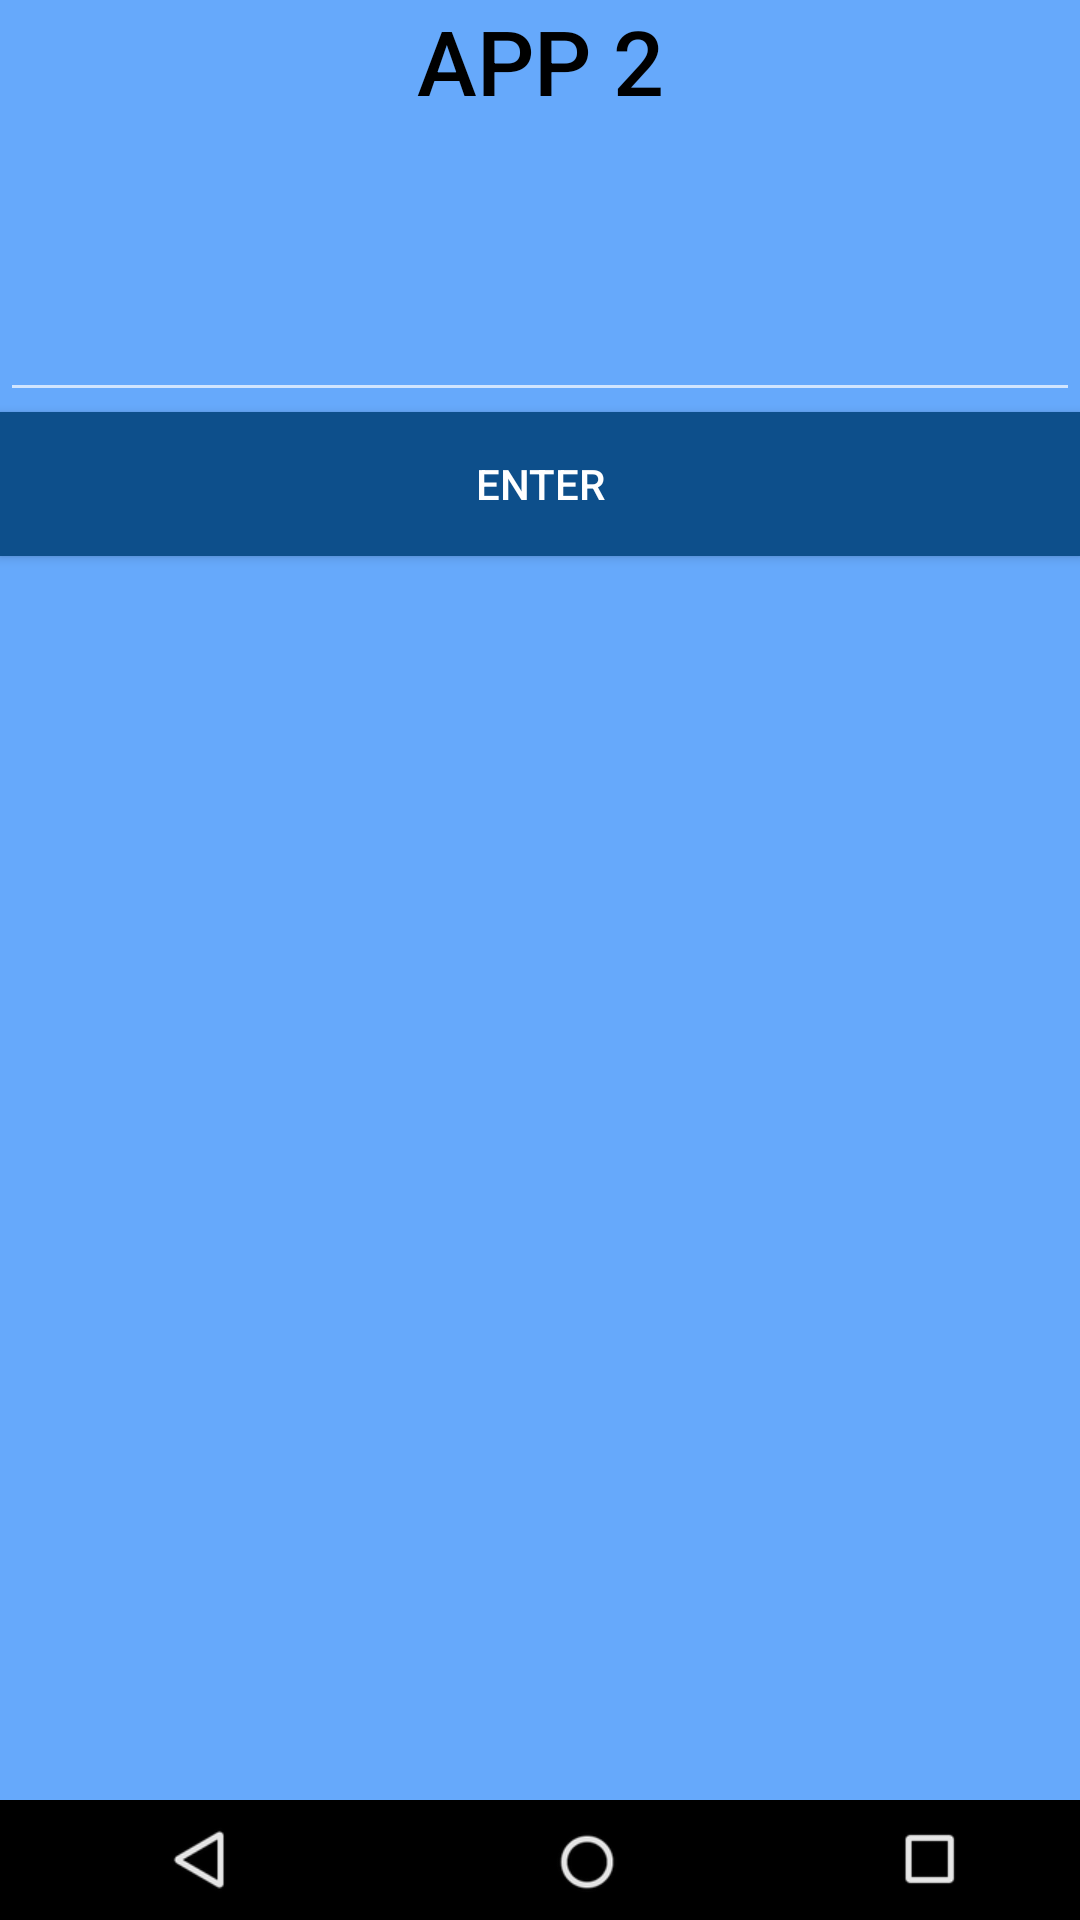

Named icons in this screenshot (1080x1920) and their centers, point (x, y):
home: point (587, 1862)
overview: point (930, 1859)
